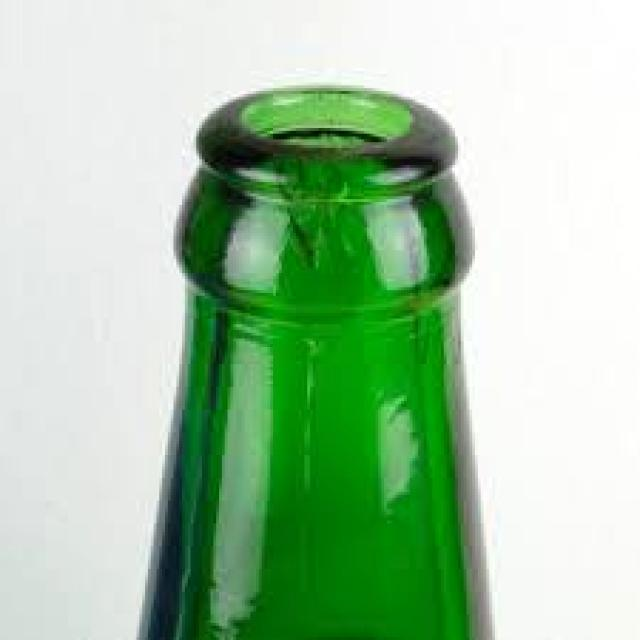Glass: (131, 76, 500, 640)
